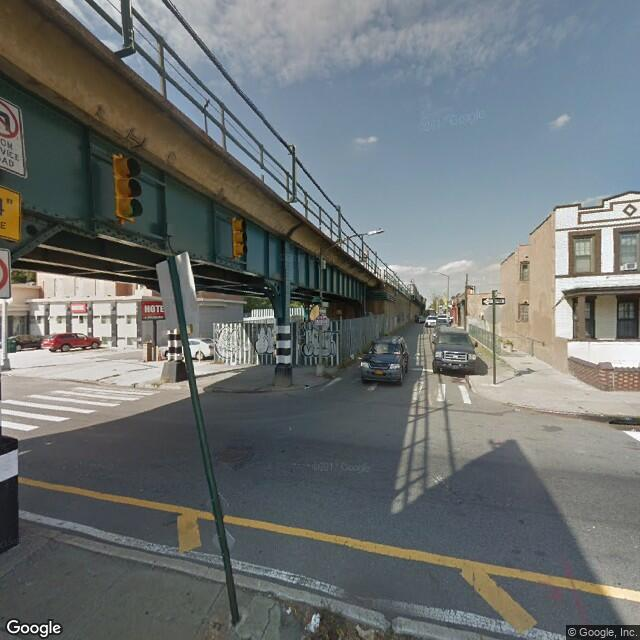litter: (281, 596, 341, 635), (302, 379, 318, 391)
